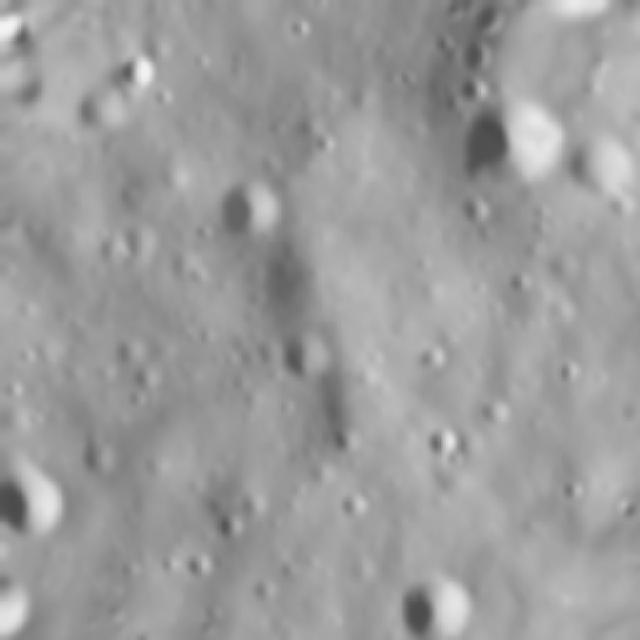crater: (446, 89, 568, 208), (0, 450, 92, 567), (196, 168, 296, 263), (377, 558, 480, 640), (66, 67, 152, 162), (558, 122, 640, 218), (392, 400, 472, 474), (261, 318, 333, 394), (448, 29, 499, 82), (200, 494, 251, 544), (67, 432, 118, 478), (114, 48, 161, 97), (445, 70, 493, 112)
